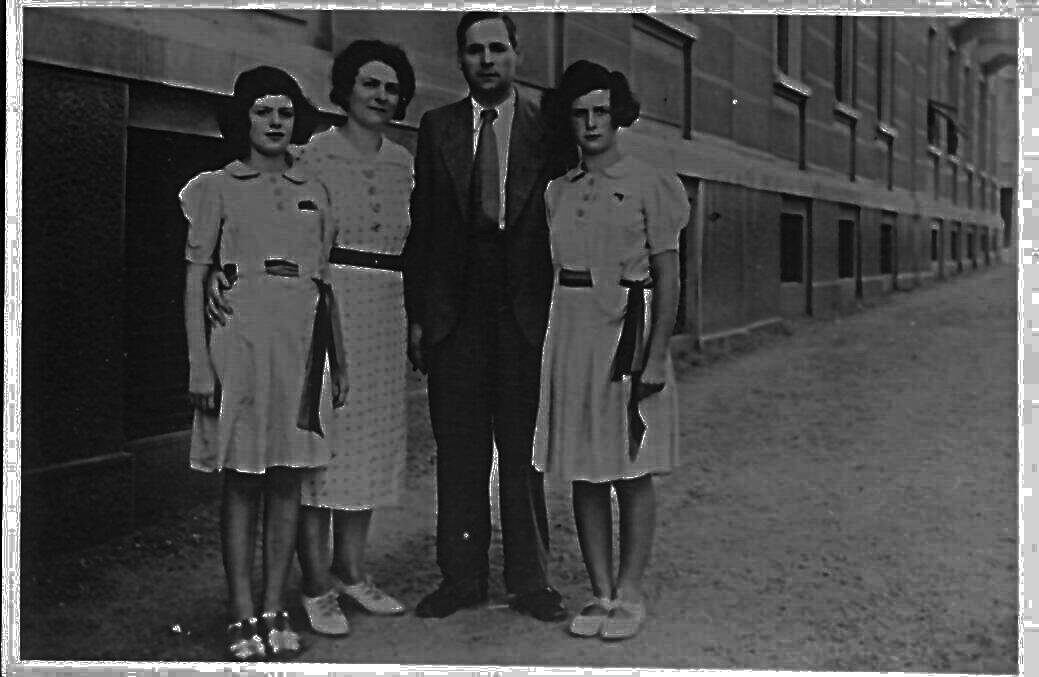face: (544, 61, 642, 150), (224, 66, 320, 154), (328, 39, 415, 126), (455, 11, 526, 98)
